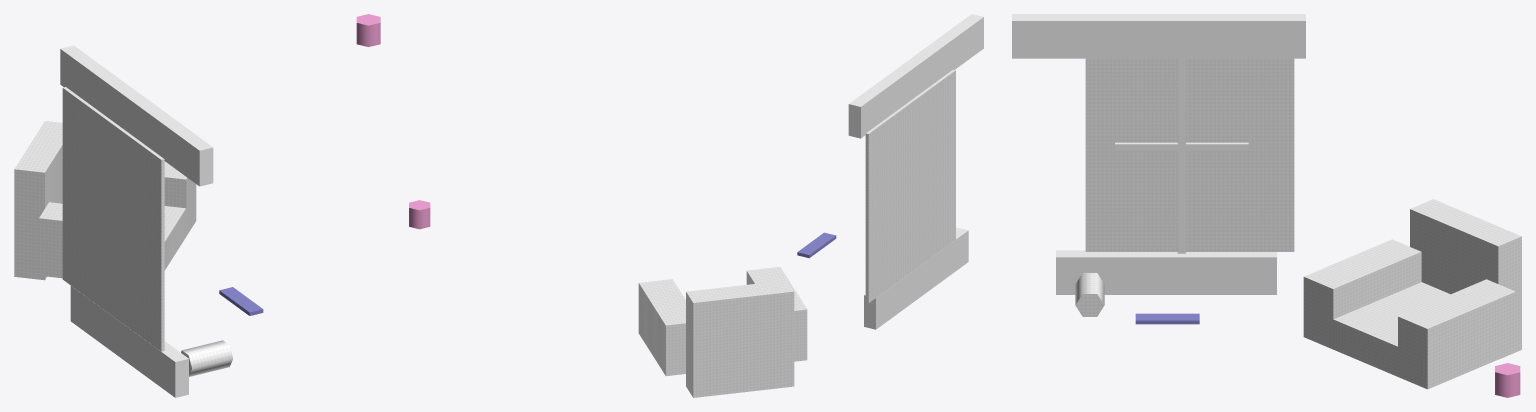
File: Templates.fbx
3 views of the same model, side by side, from view 1: azimuth 30°, elevation 25°; view 2: azimuth 150°, elevation 25°; view 3: azimuth 270°, elevation 25° (orthographic). The views are drawn at different scales.
Parts seen in each view (by area): view 1: Window_glass, SofaChair, wall, wall_1, Decoration, Mug_Cup, Ruler__2_; view 2: SofaChair, Window_glass, wall, wall_1, Mug_Cup; view 3: Window_glass, SofaChair, wall, wall_1, Window_thing, Decoration, Mug_Cup, Ruler__2_.
Boxes of the visible parts, bbox=[...] form: Window_glass: bbox=[62, 87, 164, 351]; SofaChair: bbox=[14, 121, 196, 280]; wall: bbox=[60, 45, 213, 186]; wall_1: bbox=[70, 285, 188, 397]; Decoration: bbox=[181, 340, 232, 376]; Mug_Cup: bbox=[356, 14, 380, 46]; Ruler__2_: bbox=[219, 287, 263, 315]; SofaChair: bbox=[638, 267, 807, 397]; Window_glass: bbox=[865, 69, 955, 303]; wall: bbox=[848, 14, 983, 138]; wall_1: bbox=[864, 227, 968, 329]; Mug_Cup: bbox=[409, 200, 430, 229]; Window_glass: bbox=[1085, 58, 1294, 251]; SofaChair: bbox=[1303, 199, 1521, 389]; wall: bbox=[1012, 14, 1305, 58]; wall_1: bbox=[1056, 250, 1276, 294]; Window_thing: bbox=[1115, 58, 1248, 253]; Decoration: bbox=[1075, 273, 1104, 316]; Mug_Cup: bbox=[1495, 363, 1520, 397]; Ruler__2_: bbox=[1135, 313, 1199, 324].
Size of the model in its own units: 12248 by 7700 by 12232.
Materials: 4 (1 with a texture image).
